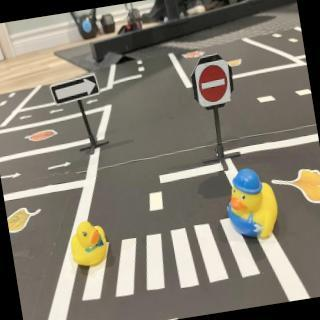duck_regular: (68, 218, 112, 270)
duck_specialty: (222, 165, 284, 244)
road_crosswalk: (70, 211, 267, 307)
road_oneway: (46, 160, 75, 173), (2, 171, 25, 185), (50, 107, 69, 117), (20, 114, 36, 125), (85, 98, 102, 107)
sign_noentry: (195, 59, 235, 107)
sign_oneway_right: (51, 73, 104, 108)
